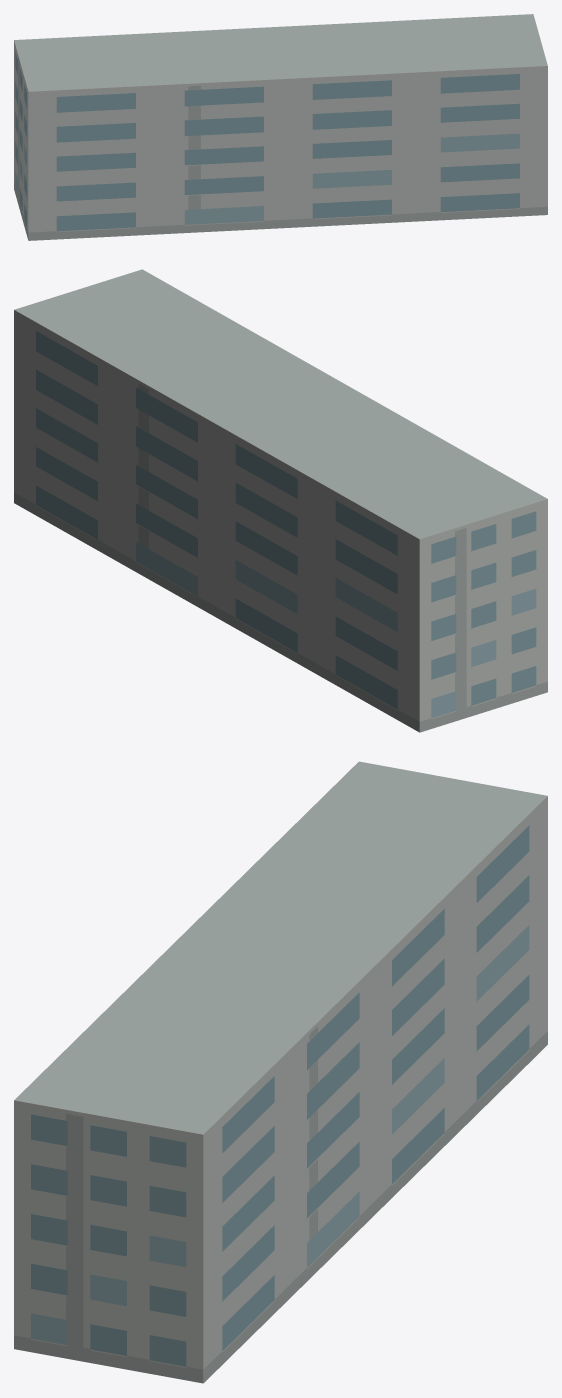
File: residential-eb4d93d6-26e1-4cb3-be28-cb279e2dc01b.glb
The picture shows the model from 3 angles, top to bottom: view 1: azimuth 30°, elevation 25°; view 2: azimuth 150°, elevation 25°; view 3: azimuth 270°, elevation 25°; orthographic projection. The views are drawn at different scales.
Visible parts, largest first — view 1: residential-eb4d93d6-26e1-4cb3-be28-cb279e2dc01b.tmp; view 2: residential-eb4d93d6-26e1-4cb3-be28-cb279e2dc01b.tmp; view 3: residential-eb4d93d6-26e1-4cb3-be28-cb279e2dc01b.tmp.
Part boxes in pixels (bbox=[...]): residential-eb4d93d6-26e1-4cb3-be28-cb279e2dc01b.tmp: bbox=[14, 14, 547, 240]; residential-eb4d93d6-26e1-4cb3-be28-cb279e2dc01b.tmp: bbox=[14, 269, 547, 732]; residential-eb4d93d6-26e1-4cb3-be28-cb279e2dc01b.tmp: bbox=[14, 761, 547, 1383].
Size of the model in its own units: 49.08 by 15.25 by 29.67.
